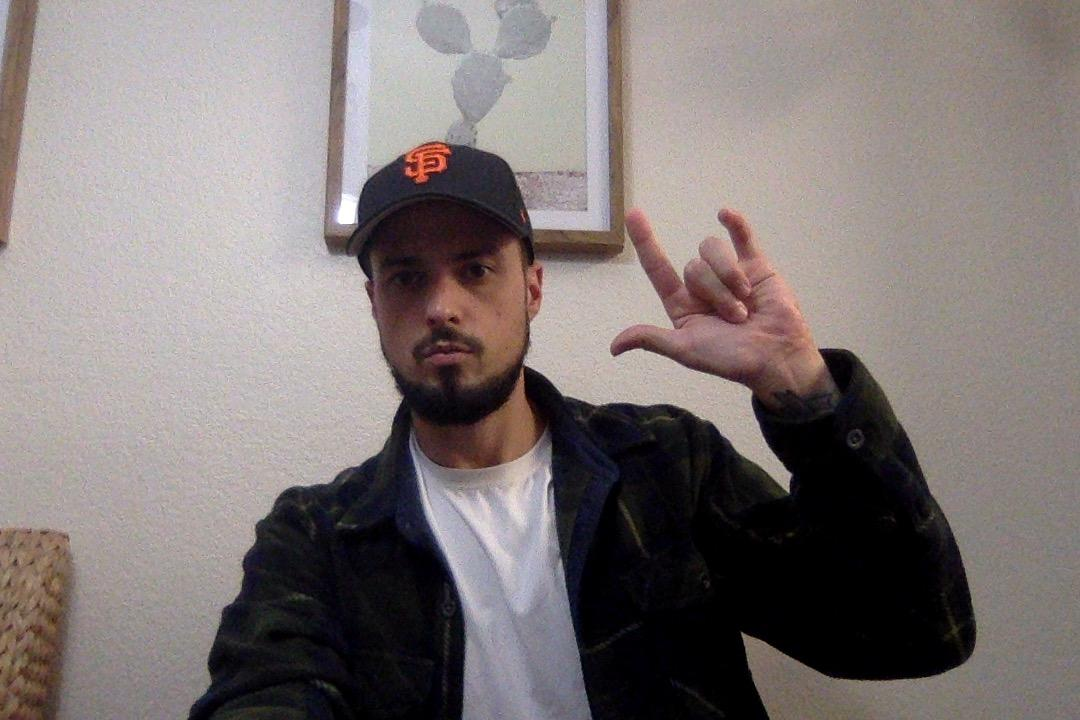Love-You: (577, 195, 824, 379)
